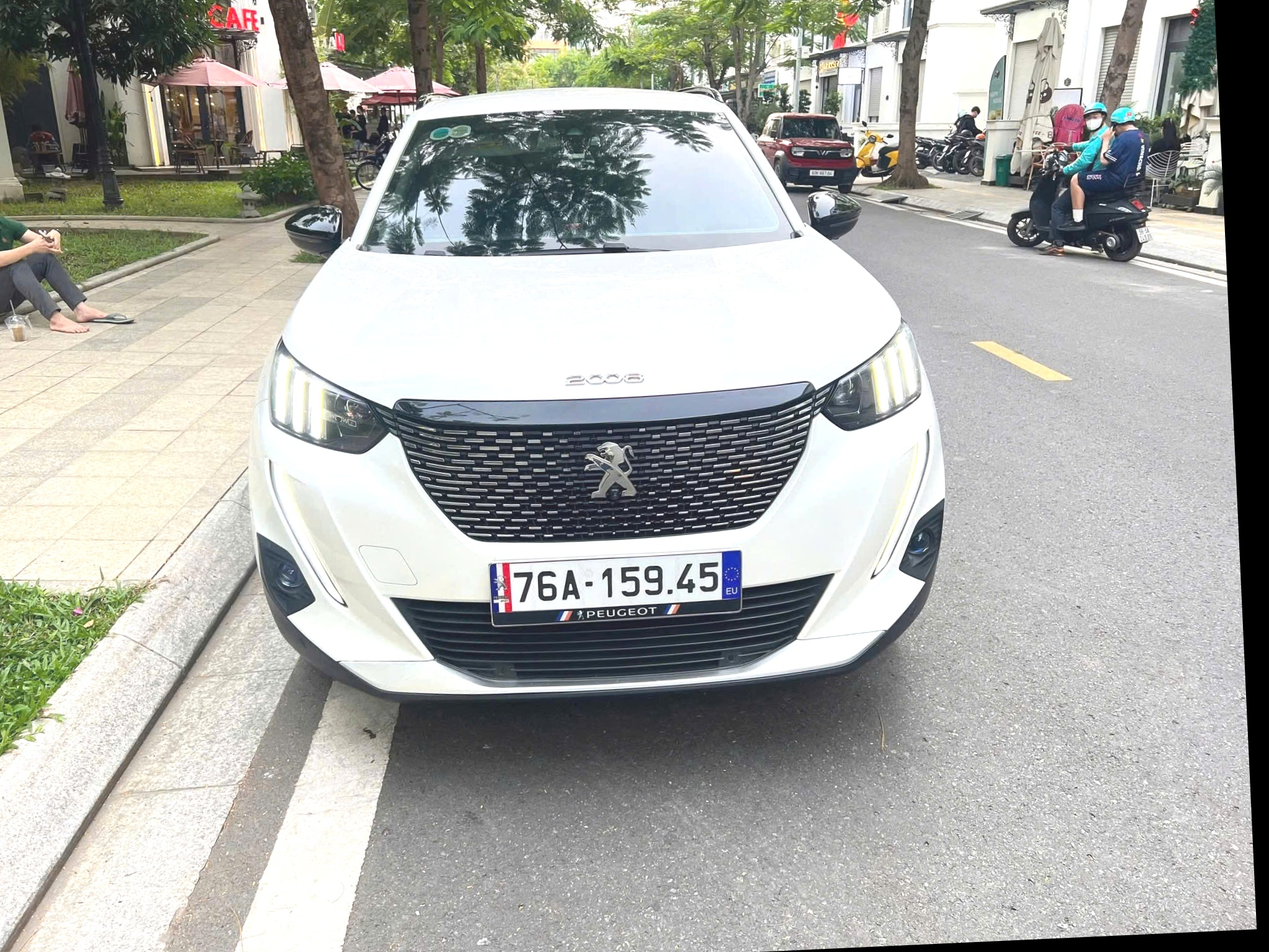Bien-so: (557, 565, 769, 628)
